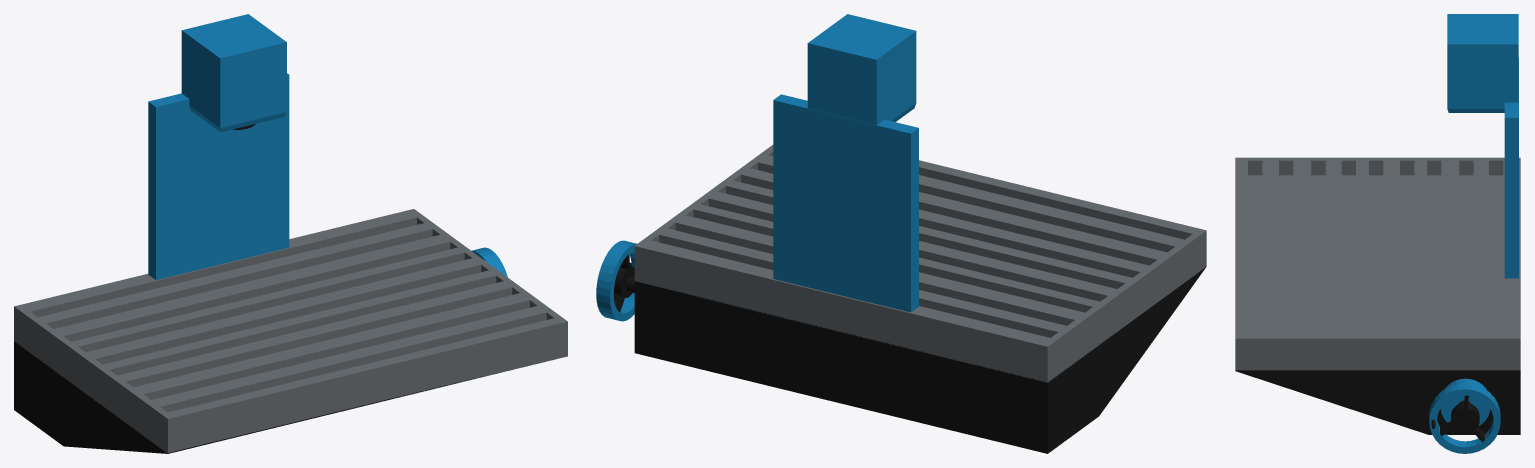
The model's file is Fräsmaschine.fbx.
3 renders of one model, left to right at view 1: azimuth 30°, elevation 25°; view 2: azimuth 150°, elevation 25°; view 3: azimuth 270°, elevation 25°, orthographic. The views are drawn at different scales.
Parts seen in each view (by area): view 1: Zylinder.004; view 2: Zylinder.004; view 3: Zylinder.004.
Boxes of the visible parts, <box> form: Zylinder.004: <box>14,14,567,453</box>; Zylinder.004: <box>596,14,1206,453</box>; Zylinder.004: <box>1235,14,1520,453</box>.
Bounding box in the file's own units: 1386 × 975 × 800.
